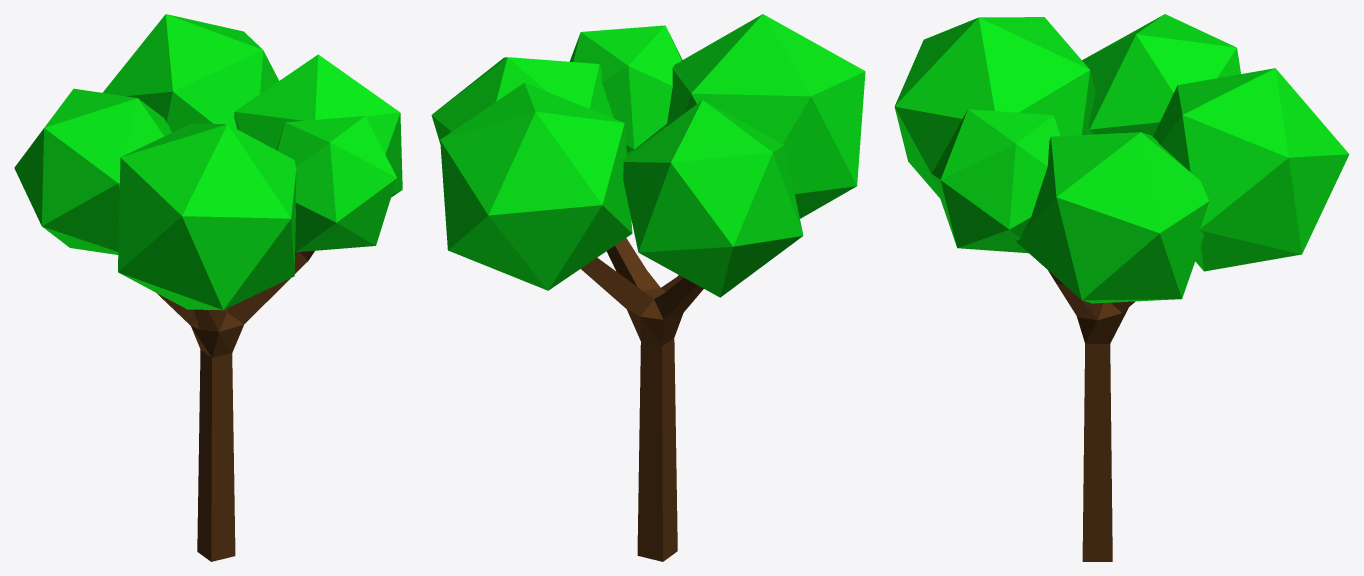
File: ico_tree.fbx
The picture shows the model from 3 angles, left to right: view 1: azimuth 30°, elevation 25°; view 2: azimuth 150°, elevation 25°; view 3: azimuth 270°, elevation 25°; orthographic projection. The views are drawn at different scales.
Parts seen in each view (by area): view 1: Cube; view 2: Cube; view 3: Cube.
Boxes of the visible parts, <box> form: Cube: <box>14,14,402,561</box>; Cube: <box>431,14,865,561</box>; Cube: <box>894,14,1349,561</box>.
Bounding box in the file's own units: 141 × 152 × 190.
